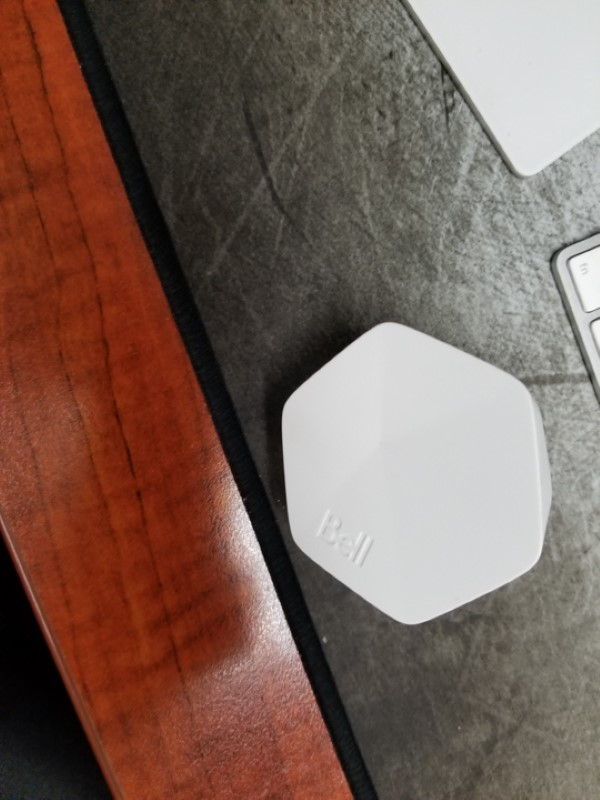pod: (264, 314, 559, 652)
